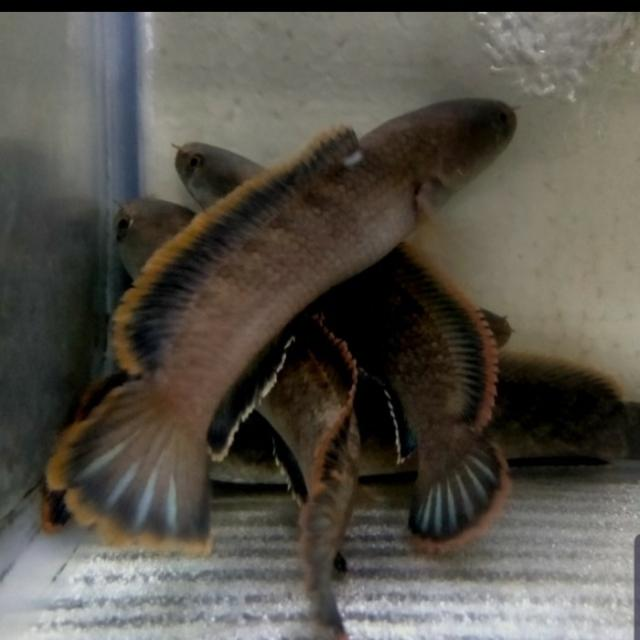Sirip Anal: (198, 330, 308, 460), (261, 427, 361, 567), (372, 360, 428, 466)
Sirip Ekor: (26, 369, 240, 559), (286, 482, 402, 640), (407, 418, 513, 550)
Sirip Punggung: (104, 122, 366, 386), (381, 228, 527, 428), (290, 304, 368, 594)
